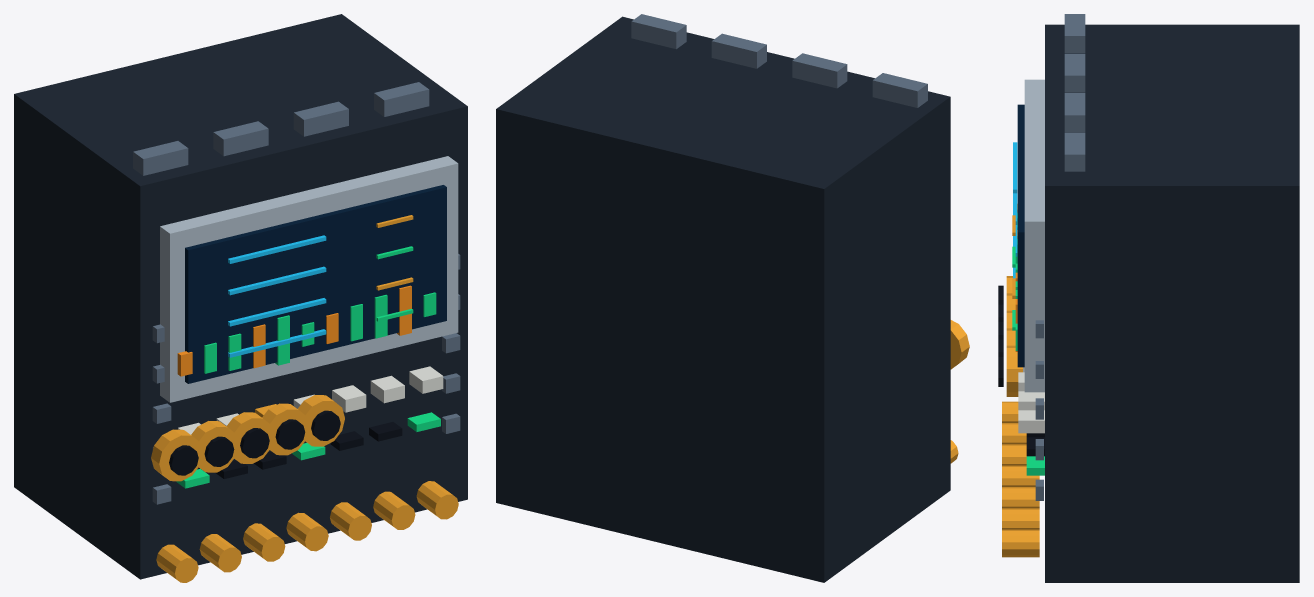
File: 54_L87_DynamicRotorHealthRecorder.fbx
The picture shows the model from 3 angles, left to right: view 1: azimuth 30°, elevation 25°; view 2: azimuth 150°, elevation 25°; view 3: azimuth 270°, elevation 25°; orthographic projection.
Parts seen in each view (by area): view 1: L87_DynamicRotorHealthRecorder, L87_DynamicRotorHealthRecorder_Part_0010, L87_DynamicRotorHealthRecorder_Part_0016, L87_DynamicRotorHealthRecorder_Part_0018, L87_DynamicRotorHealthRecorder_Part_0014, L87_DynamicRotorHealthRecorder_Part_0012, L87_DynamicRotorHealthRecorder_Part_0017, L87_DynamicRotorHealthRecorder_Part_0011, L87_DynamicRotorHealthRecorder_Part_0019, L87_DynamicRotorHealthRecorder_Part_0015, L87_DynamicRotorHealthRecorder_Part_0013; view 2: L87_DynamicRotorHealthRecorder, L87_DynamicRotorHealthRecorder_Part_0010; view 3: L87_DynamicRotorHealthRecorder, L87_DynamicRotorHealthRecorder_Part_0018.
Boxes of the visible parts, x1,y1,x2,y2 form: L87_DynamicRotorHealthRecorder: [14, 14, 467, 582]; L87_DynamicRotorHealthRecorder_Part_0010: [151, 429, 202, 481]; L87_DynamicRotorHealthRecorder_Part_0016: [262, 403, 309, 455]; L87_DynamicRotorHealthRecorder_Part_0018: [298, 395, 344, 446]; L87_DynamicRotorHealthRecorder_Part_0014: [226, 412, 272, 463]; L87_DynamicRotorHealthRecorder_Part_0012: [191, 421, 238, 472]; L87_DynamicRotorHealthRecorder_Part_0017: [275, 419, 305, 449]; L87_DynamicRotorHealthRecorder_Part_0011: [169, 445, 198, 475]; L87_DynamicRotorHealthRecorder_Part_0019: [311, 410, 340, 440]; L87_DynamicRotorHealthRecorder_Part_0015: [240, 428, 269, 458]; L87_DynamicRotorHealthRecorder_Part_0013: [204, 436, 234, 466]; L87_DynamicRotorHealthRecorder: [496, 14, 958, 582]; L87_DynamicRotorHealthRecorder_Part_0010: [950, 320, 969, 369]; L87_DynamicRotorHealthRecorder: [1002, 14, 1299, 582]; L87_DynamicRotorHealthRecorder_Part_0018: [1006, 345, 1022, 396].
Size of the model in its own units: 96.95 by 116 by 76.5.
